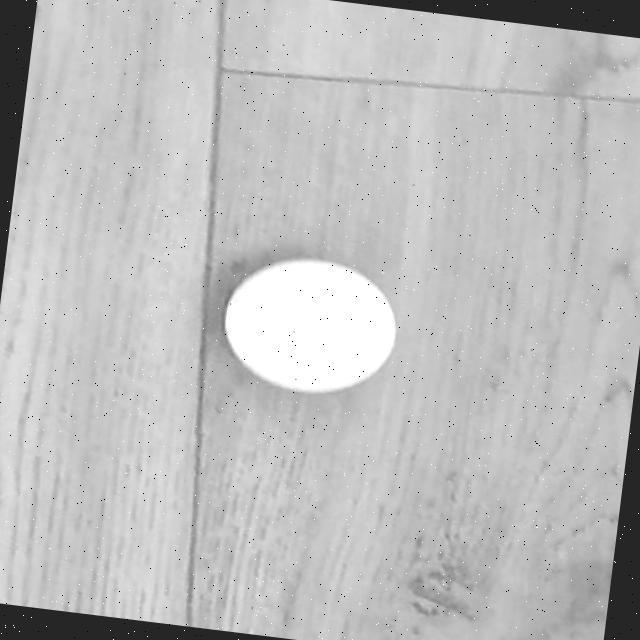ping-pong-ball: (217, 250, 401, 398)
